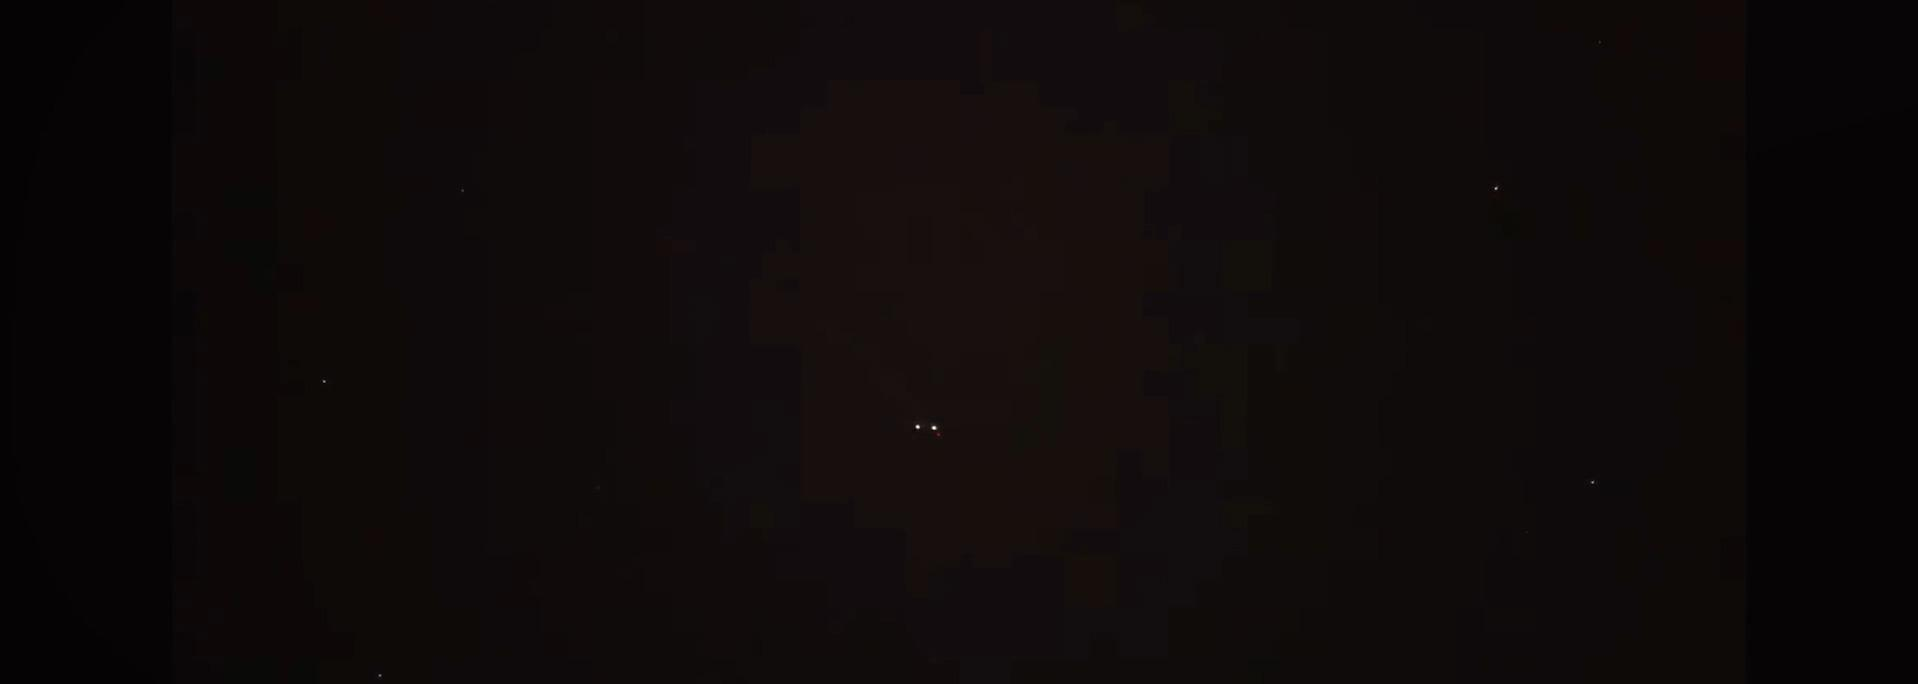Plane: (886, 414, 977, 448)
